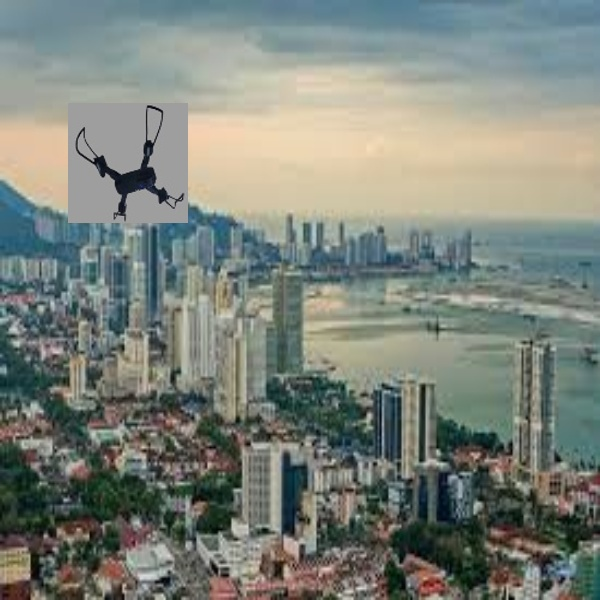drone: (70, 103, 187, 222)
